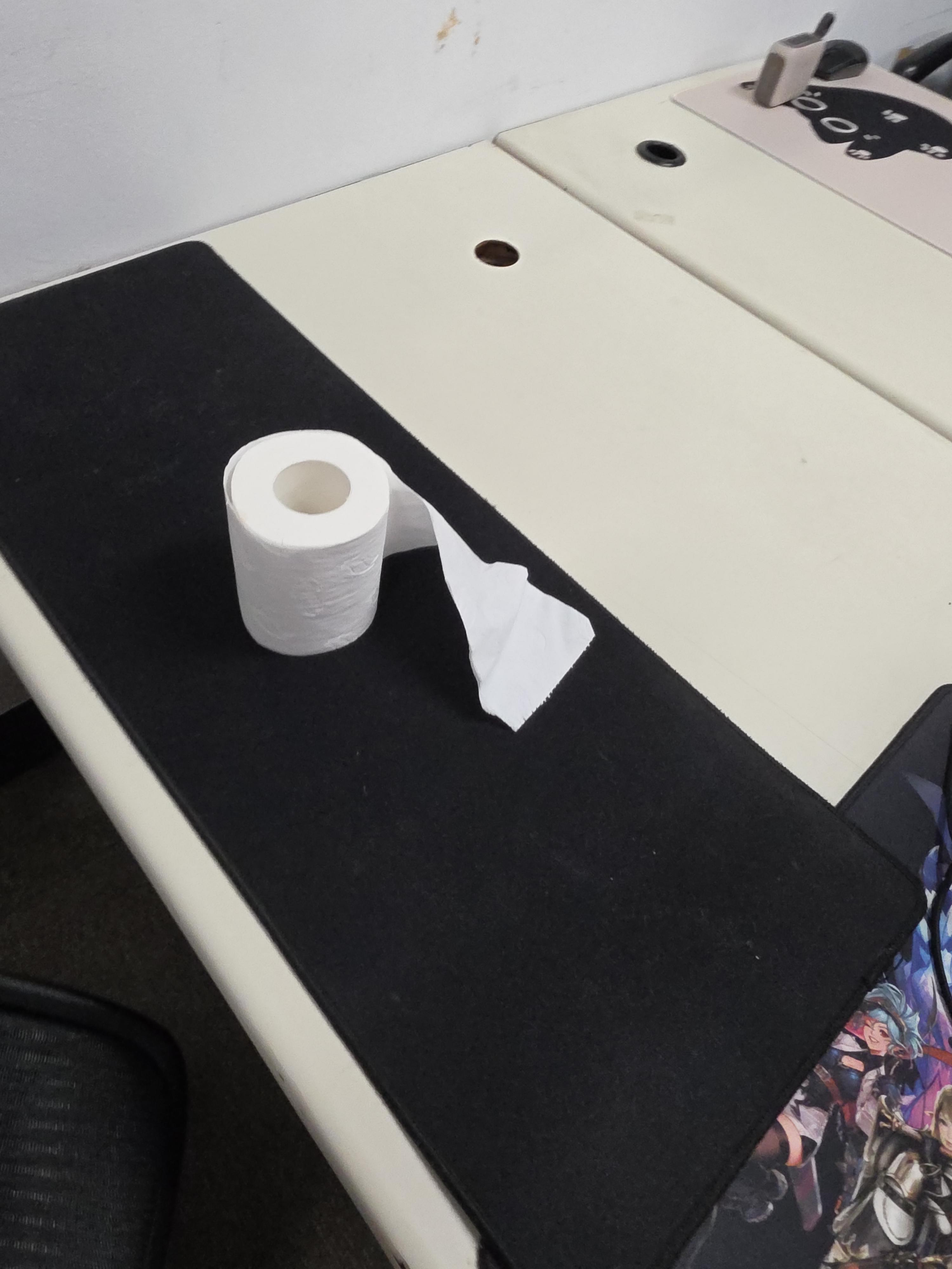tissue: (222, 429, 596, 732)
